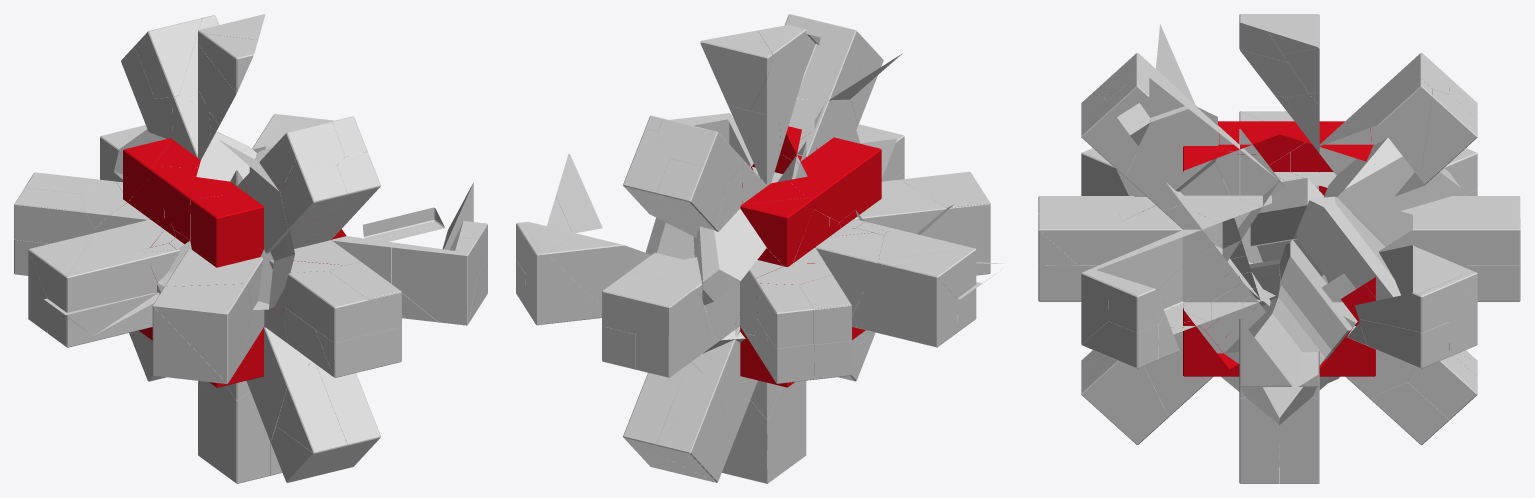
Rendered from InjRollerBreak.fbx.
3 views of the same model, side by side, from view 1: azimuth 30°, elevation 25°; view 2: azimuth 150°, elevation 25°; view 3: azimuth 270°, elevation 25° (orthographic). The views are drawn at different scales.
Visible parts, largest first — view 1: Cube_cell.040, Cube_cell.069, Cube_cell.058, Cube_cell.039, Cube_cell.072, Cube_cell.076, Cube_cell.141, Cube_cell.008, Cube_cell.094, Cube_cell.096, Cube_cell.021, Cube_cell.112 (+42 smaller); view 2: Cube_cell.040, Cube_cell.054, Cube_cell.097, Cube_cell.082, Cube_cell.045, Cube_cell.125, Cube_cell.085, Cube_cell.109, Cube_cell.002, Cube_cell.068, Cube_cell.055, Cube_cell.039 (+47 smaller); view 3: Cube_cell.045, Cube_cell.052, Cube_cell.040, Cube_cell.117, Cube_cell.053, Cube_cell.104, Cube_cell.085, Cube_cell.025, Cube_cell.156, Cube_cell.159, Cube_cell.034, Cube_cell.077 (+59 smaller).
Part boxes in pixels (x1,y1,x2,y2): Cube_cell.040: (145,139,294,309); Cube_cell.069: (153,283,252,383); Cube_cell.058: (391,237,477,325); Cube_cell.039: (198,382,269,483); Cube_cell.072: (67,236,157,312); Cube_cell.076: (284,271,367,342); Cube_cell.141: (146,293,311,441); Cube_cell.008: (276,361,347,453); Cube_cell.094: (44,292,159,347); Cube_cell.096: (134,18,201,98); Cube_cell.021: (280,158,347,230); Cube_cell.112: (148,166,246,239); Cube_cell.040: (814,53,954,252); Cube_cell.054: (853,263,957,347); Cube_cell.097: (670,362,733,482); Cube_cell.082: (793,209,884,314); Cube_cell.045: (693,208,766,305); Cube_cell.125: (691,338,794,442); Cube_cell.085: (602,271,695,334); Cube_cell.109: (547,233,647,305); Cube_cell.002: (803,19,866,102); Cube_cell.068: (656,158,724,230); Cube_cell.055: (635,289,700,377); Cube_cell.039: (767,380,806,483); Cube_cell.045: (1324,138,1461,246); Cube_cell.052: (1296,196,1400,300); Cube_cell.040: (1116,24,1236,211); Cube_cell.117: (1121,205,1218,291); Cube_cell.053: (1221,297,1329,424); Cube_cell.104: (1347,79,1432,171); Cube_cell.085: (1466,196,1520,265); Cube_cell.025: (1039,212,1121,265); Cube_cell.156: (1175,162,1261,250); Cube_cell.159: (1379,196,1466,267); Cube_cell.034: (1279,239,1352,351); Cube_cell.077: (1279,397,1319,483).
Bounding box in the file's own units: 605 × 600 × 600.
